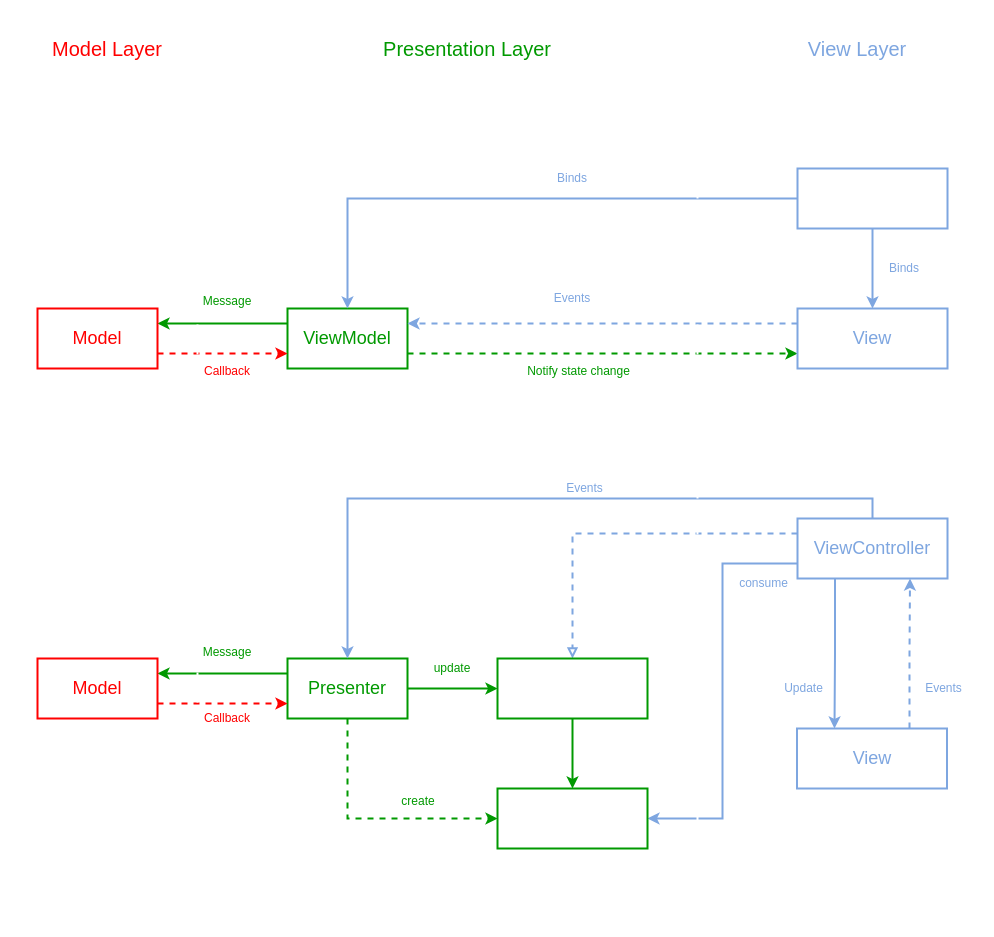
Image size: 994x937. Some labels were removed from this diagram. The shapes that lost their labels are listed below. From the top down, each one's centre as x and y in pixels, then its label:
At (x=872, y=198): "ViewController （Binder）".
At (x=572, y=688): "<AbstractView>".
At (x=572, y=818): "ViewData".
